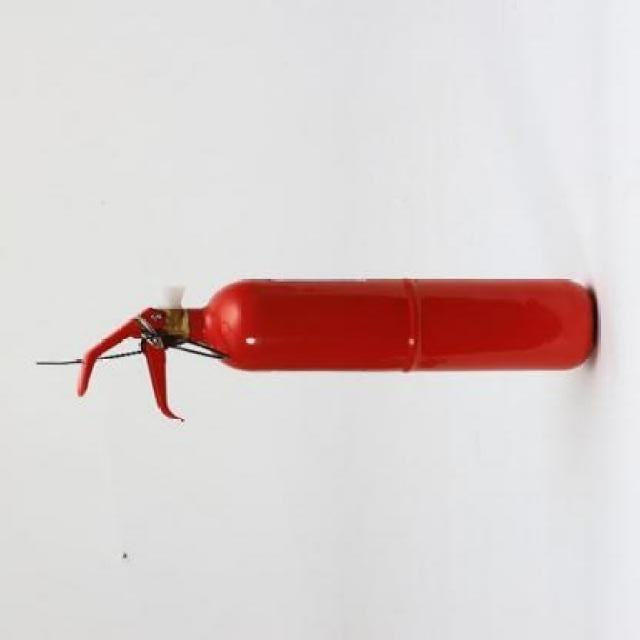fire extinguisher: (74, 279, 595, 423)
